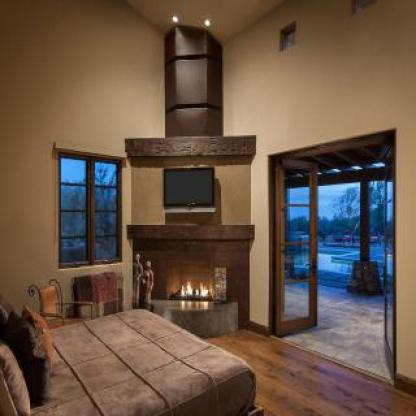fire: (179, 281, 221, 303)
